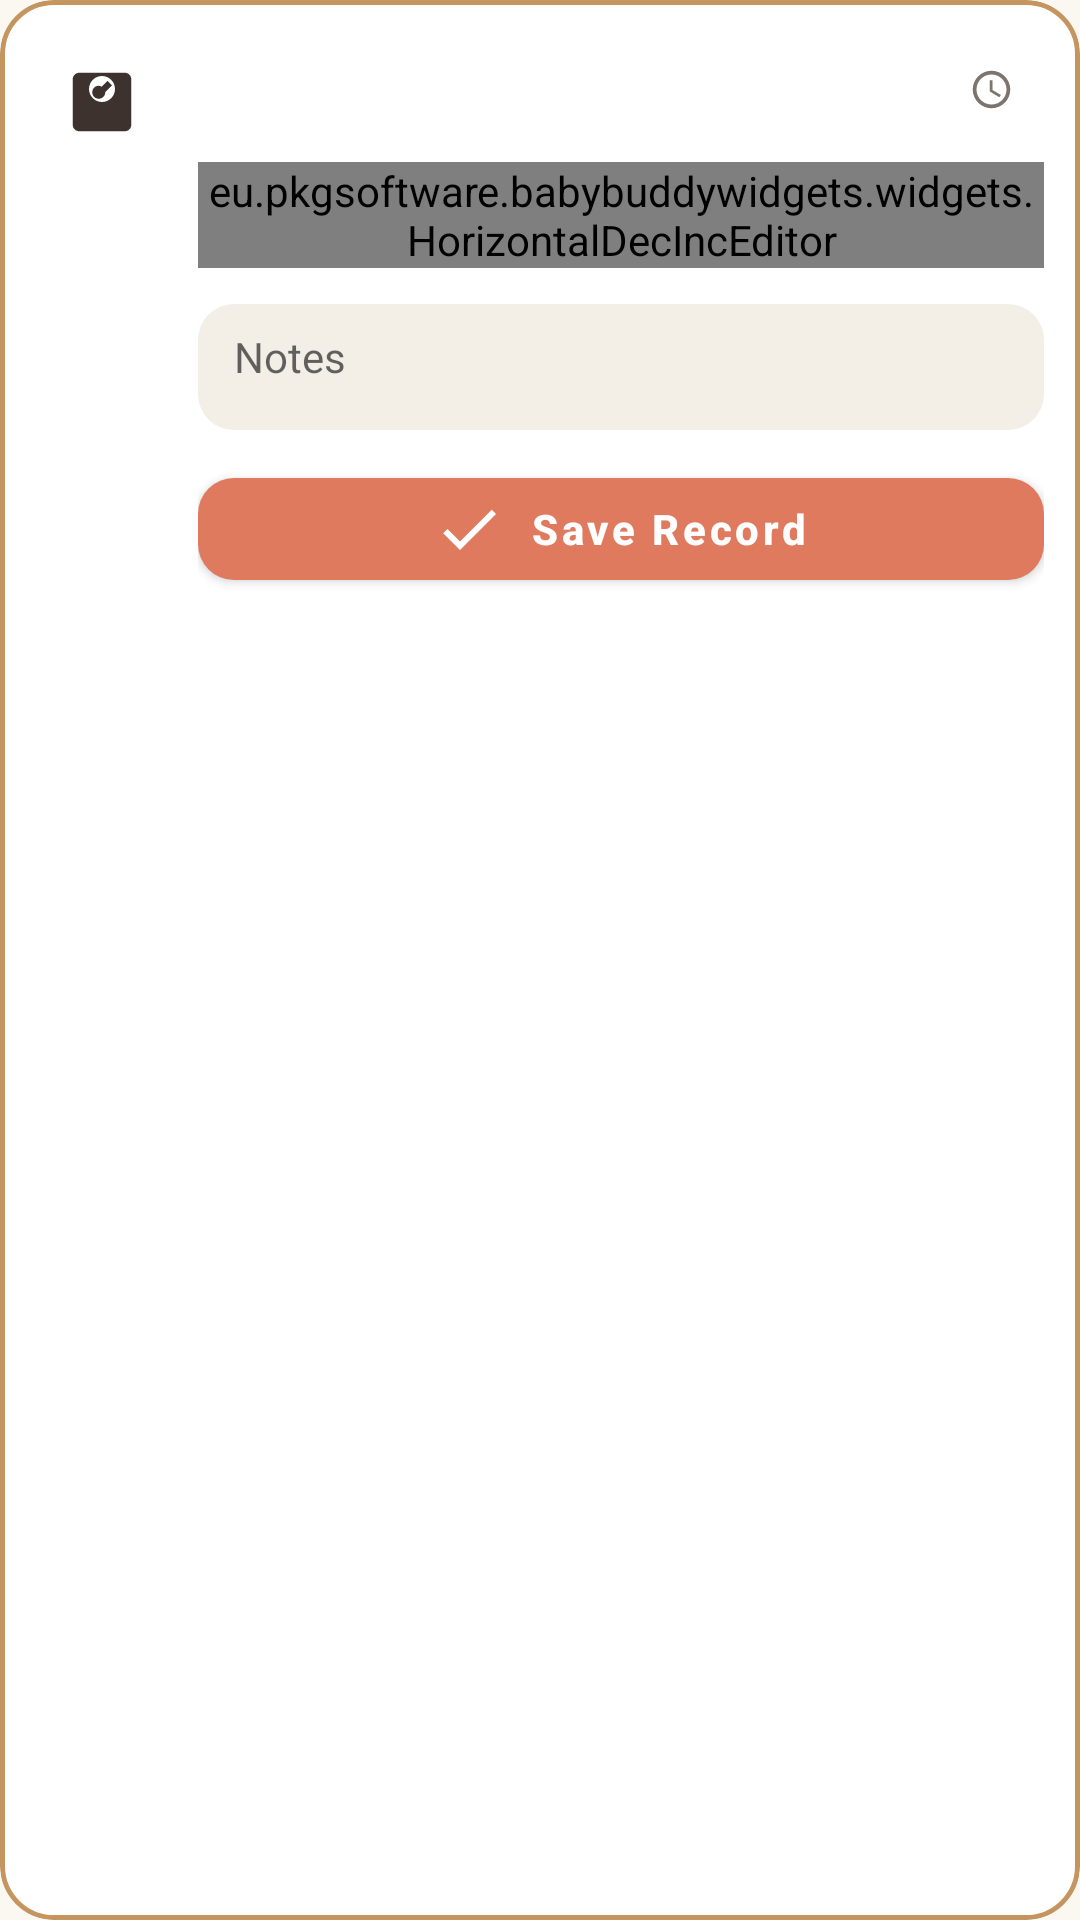

Screen size 1080px×1920px. Icon name, then its center in pixels as (x,y):
schedule clock: (991,89)
weight: (102,102)
